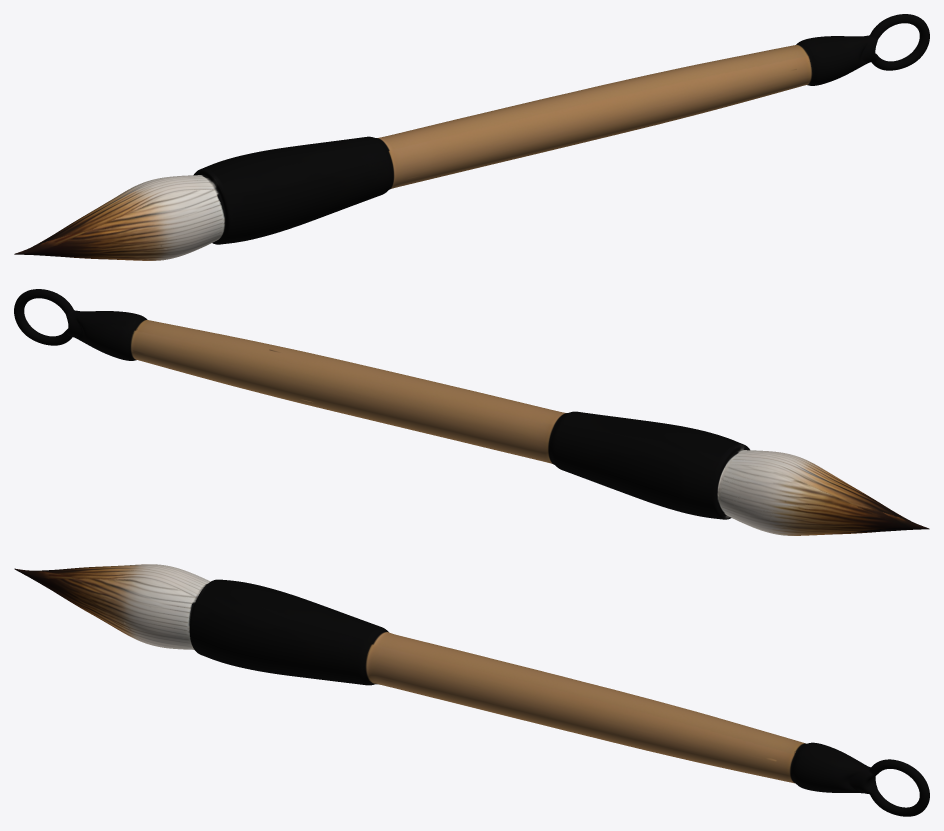
The model's file is brush-clean.glb.
3 views of the same model, one above another, from view 1: azimuth 30°, elevation 25°; view 2: azimuth 150°, elevation 25°; view 3: azimuth 330°, elevation 25° (orthographic).
Parts seen in each view (by area): view 1: node_0; view 2: node_0; view 3: node_0.
Boxes of the visible parts, x1,y1,x2,y2 form: node_0: [14, 14, 929, 260]; node_0: [14, 289, 929, 535]; node_0: [14, 564, 929, 816].
Bounding box in the file's own units: 1.2 × 0.0948 × 0.1006.
1 material, 1 textured.
